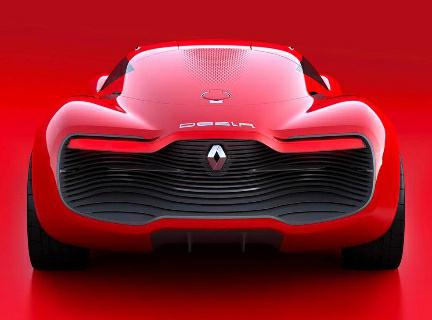雷诺-DeZir: (23, 34, 408, 276)
